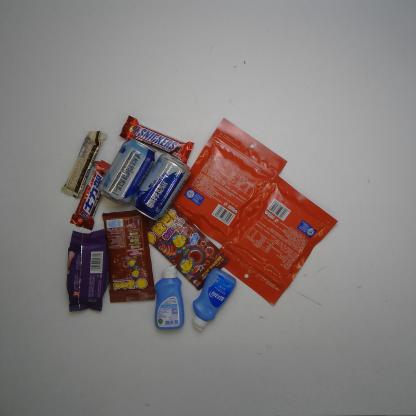Alcohol: (97, 137, 157, 207), (132, 152, 192, 221)
Candy: (146, 203, 231, 291), (102, 209, 156, 303)
Chocolate: (118, 115, 195, 166), (60, 129, 108, 200), (69, 159, 111, 231)
Dessert: (65, 228, 110, 312)
Dried Fruit: (219, 174, 338, 306), (170, 117, 288, 245)
Personal Hygiene: (191, 267, 237, 332), (153, 264, 185, 331)
